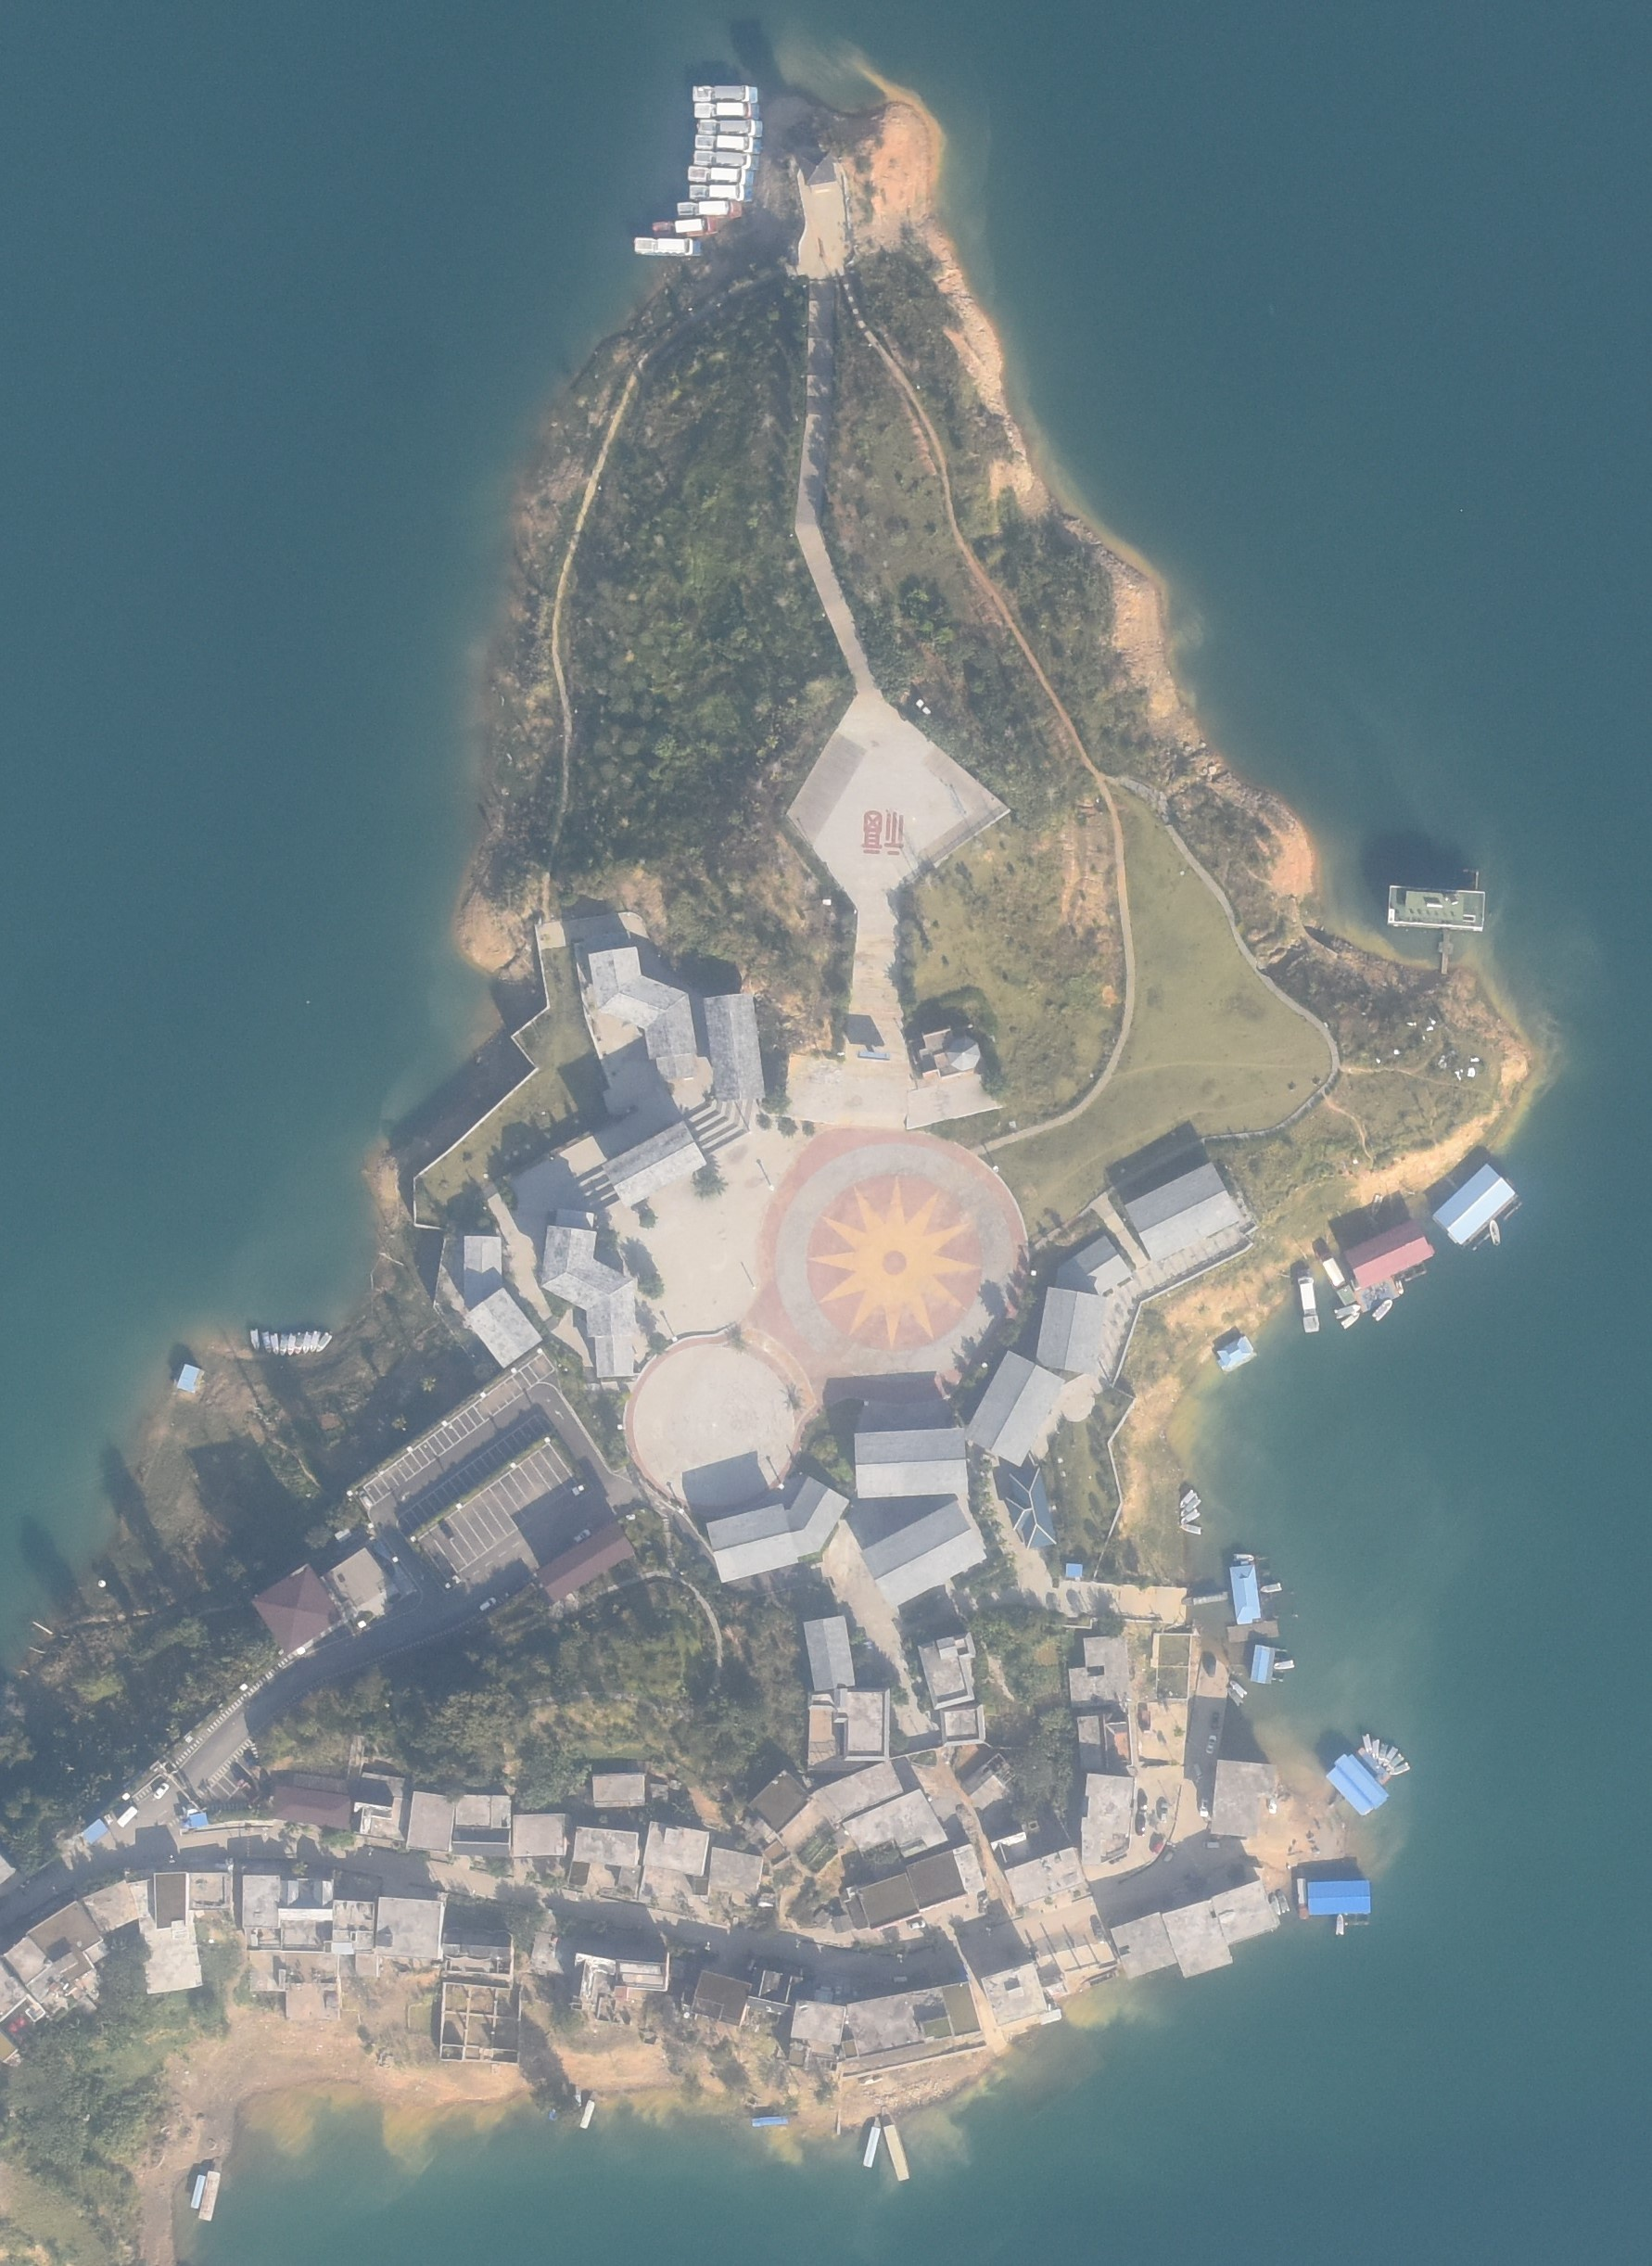building: (241, 1872, 441, 2022), (539, 1208, 634, 1376), (705, 1476, 849, 1585), (587, 946, 699, 1081), (842, 1980, 985, 2077), (750, 1762, 902, 1852), (1036, 1233, 1131, 1373), (859, 1500, 985, 1605), (1124, 1163, 1241, 1261), (966, 1349, 1064, 1466), (464, 1234, 543, 1369), (602, 1120, 707, 1208), (250, 1563, 346, 1654), (537, 1521, 635, 1604), (853, 1430, 969, 1498), (322, 1545, 405, 1637), (841, 1789, 950, 1857), (807, 1687, 891, 1775), (441, 1981, 524, 2065), (703, 991, 766, 1100), (29, 1900, 105, 1986), (572, 1953, 669, 2018), (1159, 1899, 1233, 1979), (565, 1827, 642, 1902), (640, 1820, 708, 1900), (1209, 1758, 1276, 1839), (145, 1867, 231, 1929), (905, 1842, 985, 1909), (981, 1963, 1063, 2025), (1004, 1844, 1085, 1907), (1106, 1905, 1171, 1982), (1083, 1771, 1137, 1864), (916, 1632, 974, 1710), (843, 1874, 921, 1930), (1068, 1636, 1132, 1705), (293, 1733, 363, 1792), (709, 1846, 776, 1908), (802, 1615, 856, 1692), (1005, 1468, 1057, 1547), (1077, 1705, 1137, 1773), (791, 1999, 847, 2069), (1210, 1882, 1274, 1944), (451, 1793, 513, 1857), (272, 1784, 354, 1830), (1389, 886, 1483, 925), (917, 1027, 982, 1084), (958, 1753, 1019, 1813), (439, 1929, 513, 1978), (689, 1970, 751, 2026), (505, 1810, 568, 1861), (404, 1791, 453, 1854), (85, 1879, 142, 1934), (5, 1933, 52, 1991), (351, 1795, 412, 1840), (1154, 1632, 1191, 1701), (744, 1821, 793, 1867), (591, 1771, 646, 1807), (940, 1708, 985, 1744), (989, 1831, 1032, 1867), (757, 1965, 794, 2003), (749, 1995, 794, 2018), (531, 1932, 558, 1970), (335, 1525, 352, 1542)
prefabricated-house: (1431, 1163, 1516, 1243), (1342, 1221, 1436, 1287), (1325, 1752, 1389, 1815), (1307, 1881, 1371, 1913), (1226, 1564, 1259, 1626), (1215, 1335, 1255, 1372), (1251, 1644, 1274, 1684), (80, 1818, 109, 1844), (177, 1364, 201, 1393), (753, 2111, 791, 2127), (186, 1812, 207, 1828), (1065, 1562, 1082, 1580)
ship: (883, 2111, 909, 2183), (197, 2158, 222, 2223), (633, 233, 700, 258), (1322, 1256, 1356, 1302), (691, 83, 757, 105), (1298, 1279, 1324, 1333), (691, 101, 760, 121), (698, 116, 765, 134), (683, 166, 753, 184), (694, 133, 763, 150), (689, 184, 753, 202), (654, 219, 718, 236), (862, 2117, 882, 2169), (693, 152, 759, 167), (678, 199, 743, 214), (546, 2081, 567, 2125), (1180, 1589, 1229, 1606), (1295, 1865, 1309, 1921), (188, 2170, 203, 2209), (1371, 1297, 1394, 1321), (580, 2091, 595, 2128), (571, 2083, 582, 2128), (1370, 1190, 1386, 1218), (1229, 1676, 1248, 1698), (1277, 1886, 1290, 1915), (1332, 1305, 1360, 1318), (1182, 1497, 1201, 1516), (1488, 1220, 1501, 1245), (315, 1332, 332, 1352), (1387, 1753, 1404, 1771), (1180, 1487, 1195, 1508), (1228, 1553, 1255, 1564), (1342, 1312, 1360, 1329), (1390, 1761, 1410, 1775), (286, 1330, 296, 1357), (300, 1330, 311, 1356), (1270, 1890, 1279, 1920), (1384, 1744, 1395, 1768), (1273, 1660, 1298, 1670), (296, 1329, 304, 1359), (1182, 1510, 1199, 1525), (1361, 1731, 1371, 1755), (311, 1329, 319, 1357), (1182, 1523, 1201, 1535), (1230, 1687, 1242, 1707), (250, 1327, 260, 1352), (270, 1332, 278, 1359), (1370, 1738, 1379, 1762), (278, 1334, 287, 1358), (263, 1329, 272, 1355), (1336, 1913, 1343, 1935), (1262, 1584, 1280, 1592), (1379, 1743, 1384, 1767), (1395, 1279, 1404, 1295)
vehicle: (116, 1806, 139, 1827), (1135, 1800, 1148, 1837), (1138, 1706, 1152, 1734), (571, 1529, 593, 1544), (1204, 1734, 1219, 1755), (1205, 1652, 1217, 1677), (477, 1597, 496, 1612), (154, 1782, 171, 1798), (1192, 1760, 1203, 1781), (445, 1573, 461, 1588), (1159, 1801, 1168, 1826), (357, 1492, 373, 1506), (1154, 1835, 1165, 1854), (570, 1483, 585, 1496), (1163, 1845, 1175, 1862), (1201, 1840, 1220, 1850), (1211, 1711, 1219, 1731), (1200, 1796, 1207, 1818)
